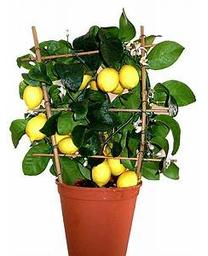lemon: (97, 68, 119, 93), (27, 117, 47, 142), (94, 159, 111, 187), (121, 63, 138, 89), (25, 86, 42, 109)
